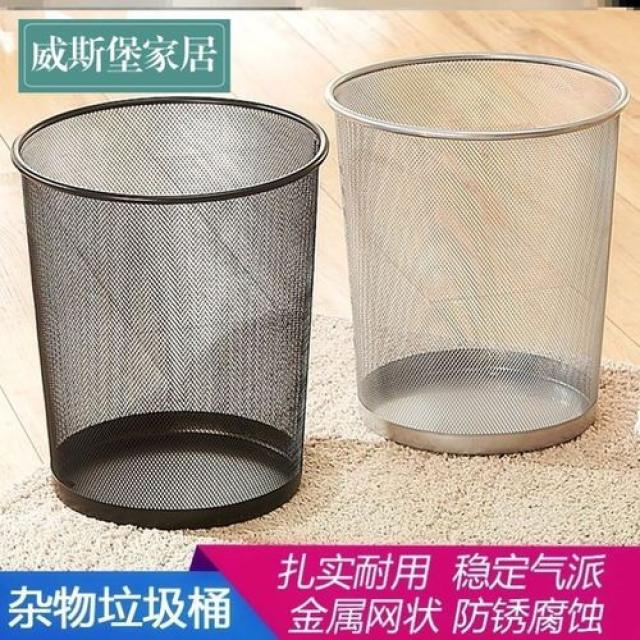dustbin: (12, 91, 333, 534), (322, 47, 635, 460)
